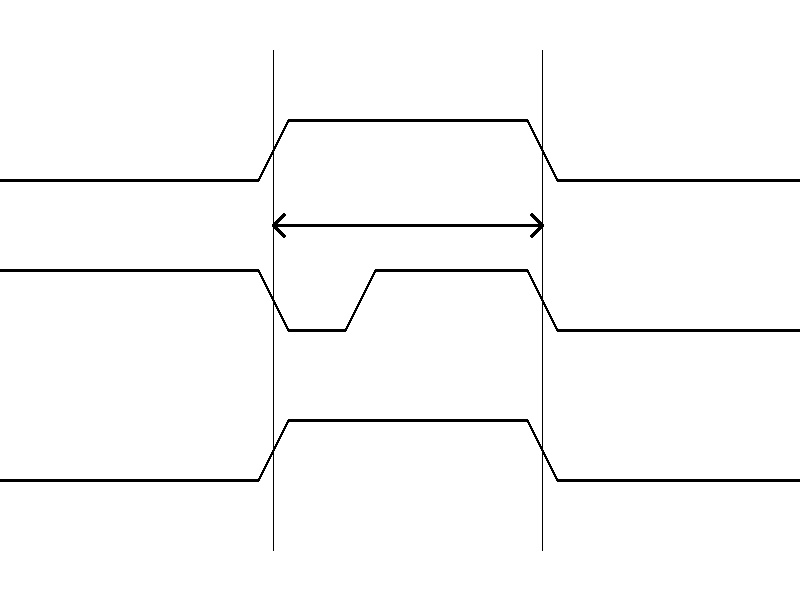double_arrow: (273, 210, 542, 240)
